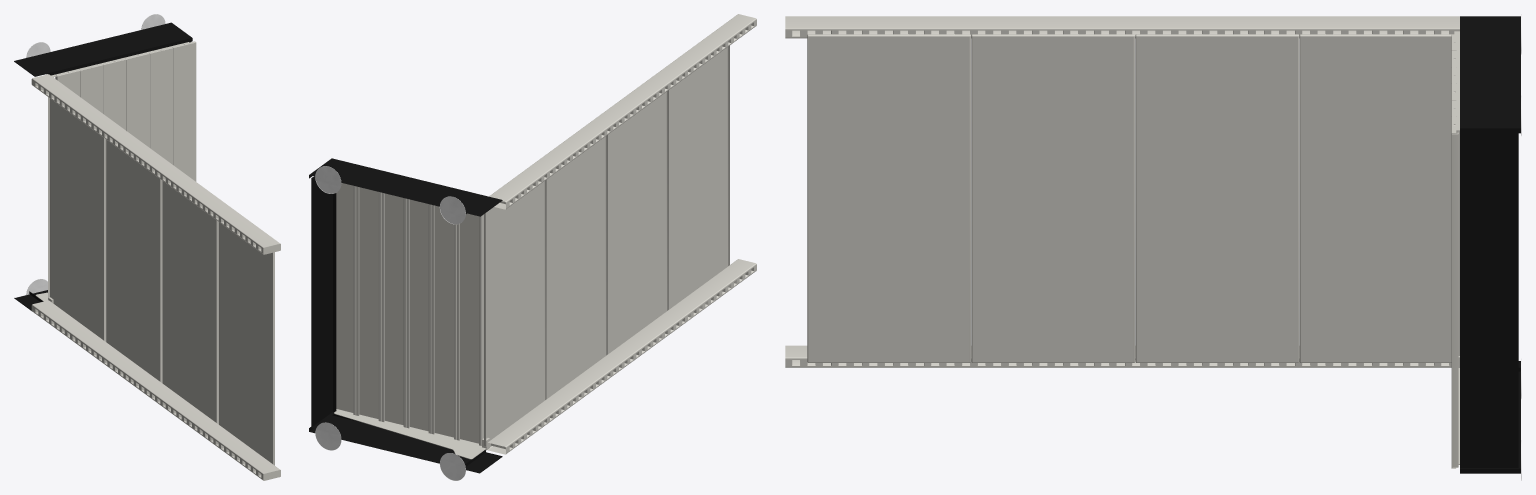
Rendered from ShelvesBase01.obj.
3 renders of one model, left to right at view 1: azimuth 30°, elevation 25°; view 2: azimuth 150°, elevation 25°; view 3: azimuth 270°, elevation 25°, orthographic. The views are drawn at different scales.
Visible parts, largest first — view 1: ShelvesBase01; view 2: ShelvesBase01; view 3: ShelvesBase01.
Part boxes in pixels (left/top/right/bottom): ShelvesBase01: left=14, top=14, right=280, bottom=480; ShelvesBase01: left=309, top=14, right=756, bottom=480; ShelvesBase01: left=785, top=14, right=1521, bottom=480.
Size of the model in its own units: 0.7377 by 1.14 by 2.
Materials: 3 (1 with a texture image).
